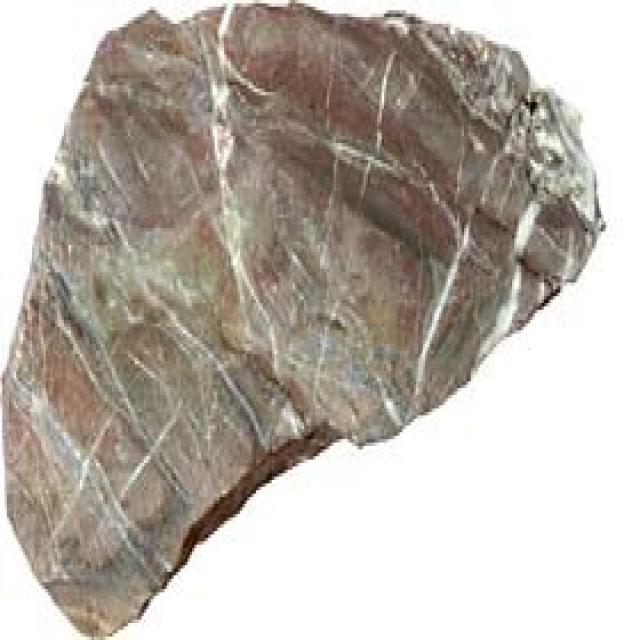Sedimentary: (9, 3, 604, 640)
